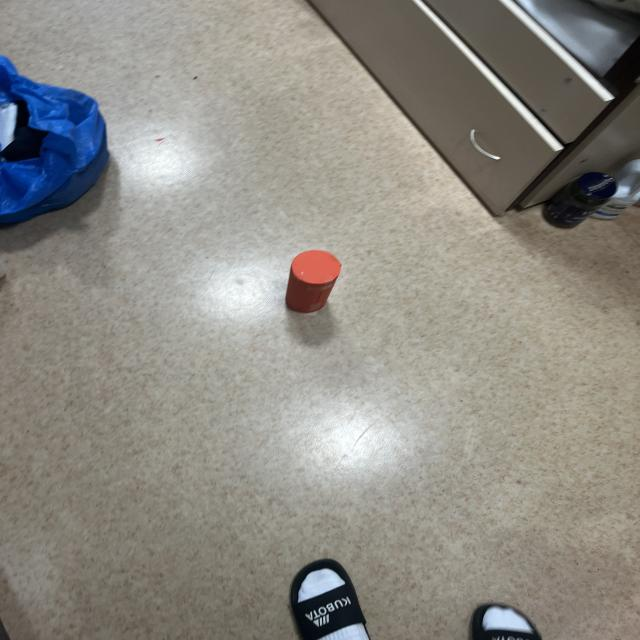przeszkoda: (286, 250, 341, 312)
